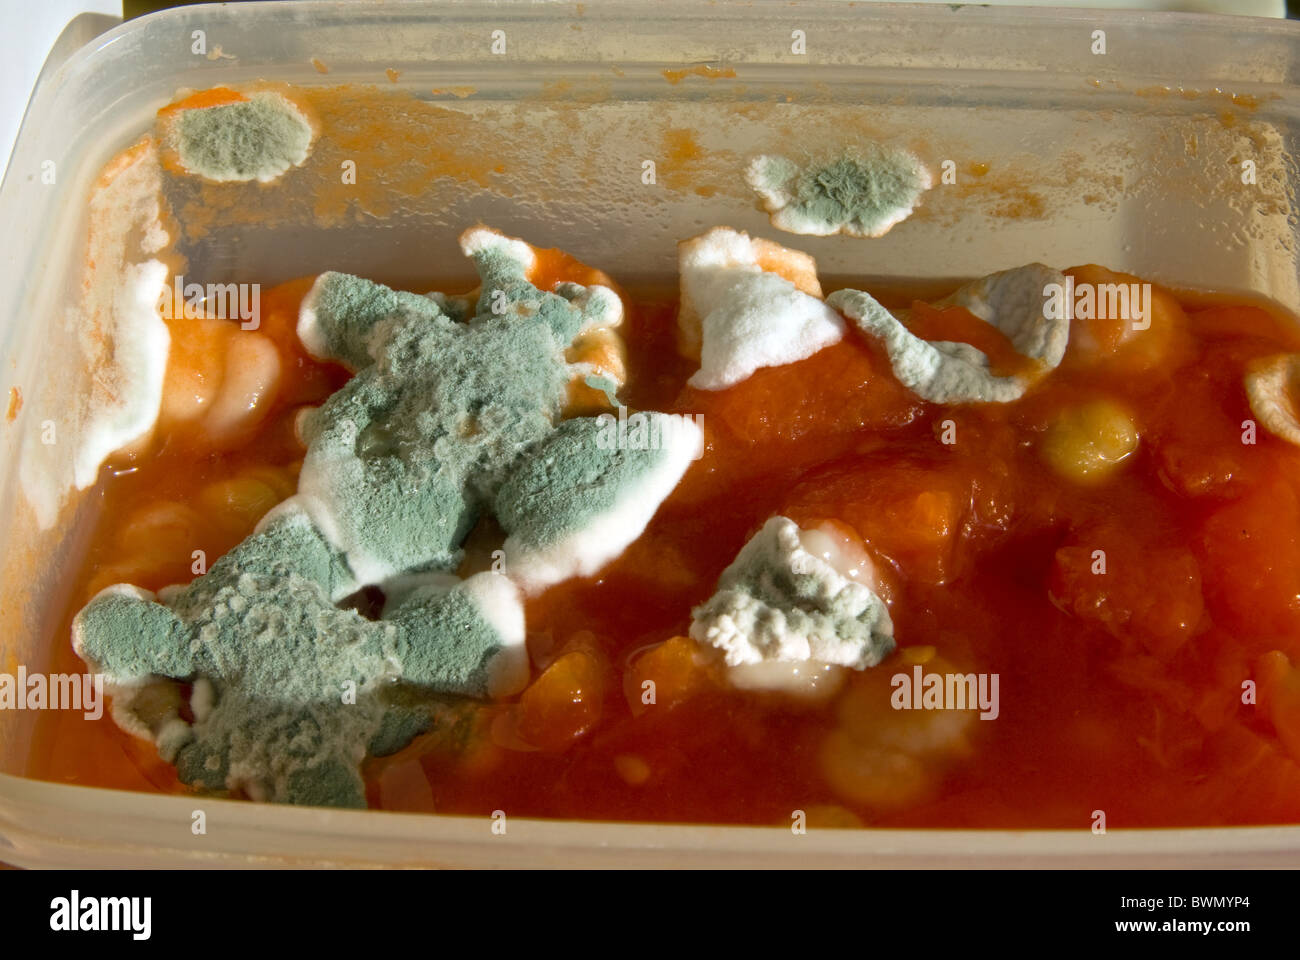Penicillium: (171, 601, 394, 797), (834, 282, 1075, 419), (724, 531, 902, 666), (133, 80, 317, 188), (505, 422, 661, 544), (685, 248, 827, 362)
